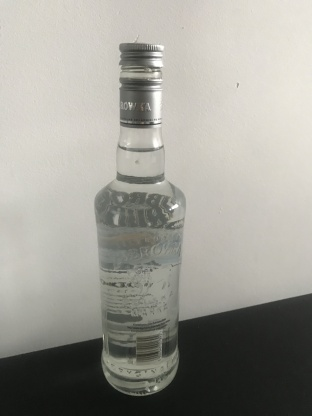nakretka: (117, 39, 165, 126)
